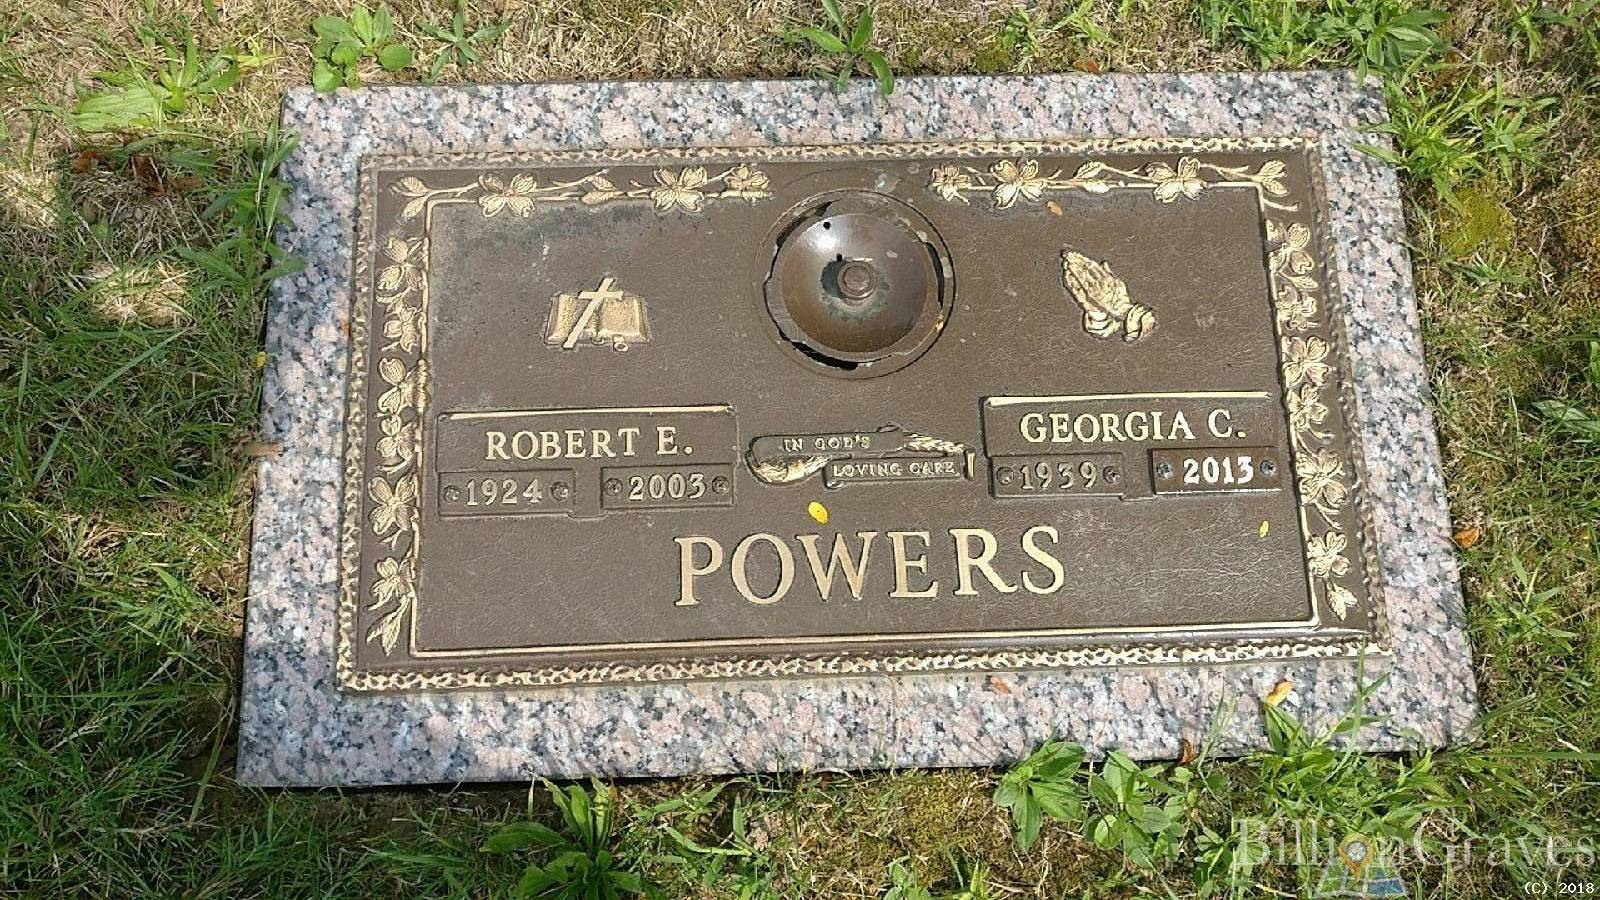flat: (234, 71, 1486, 779)
